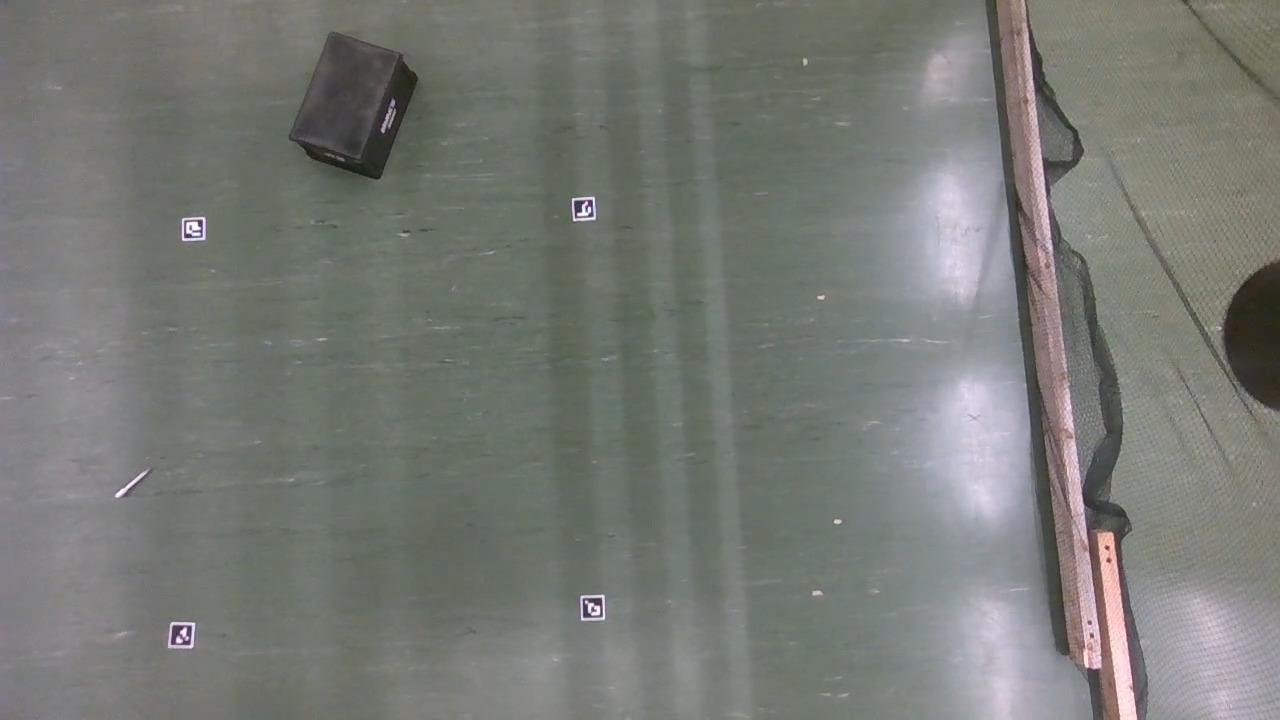probes: (114, 468, 150, 498)
rako: (289, 31, 419, 181)
